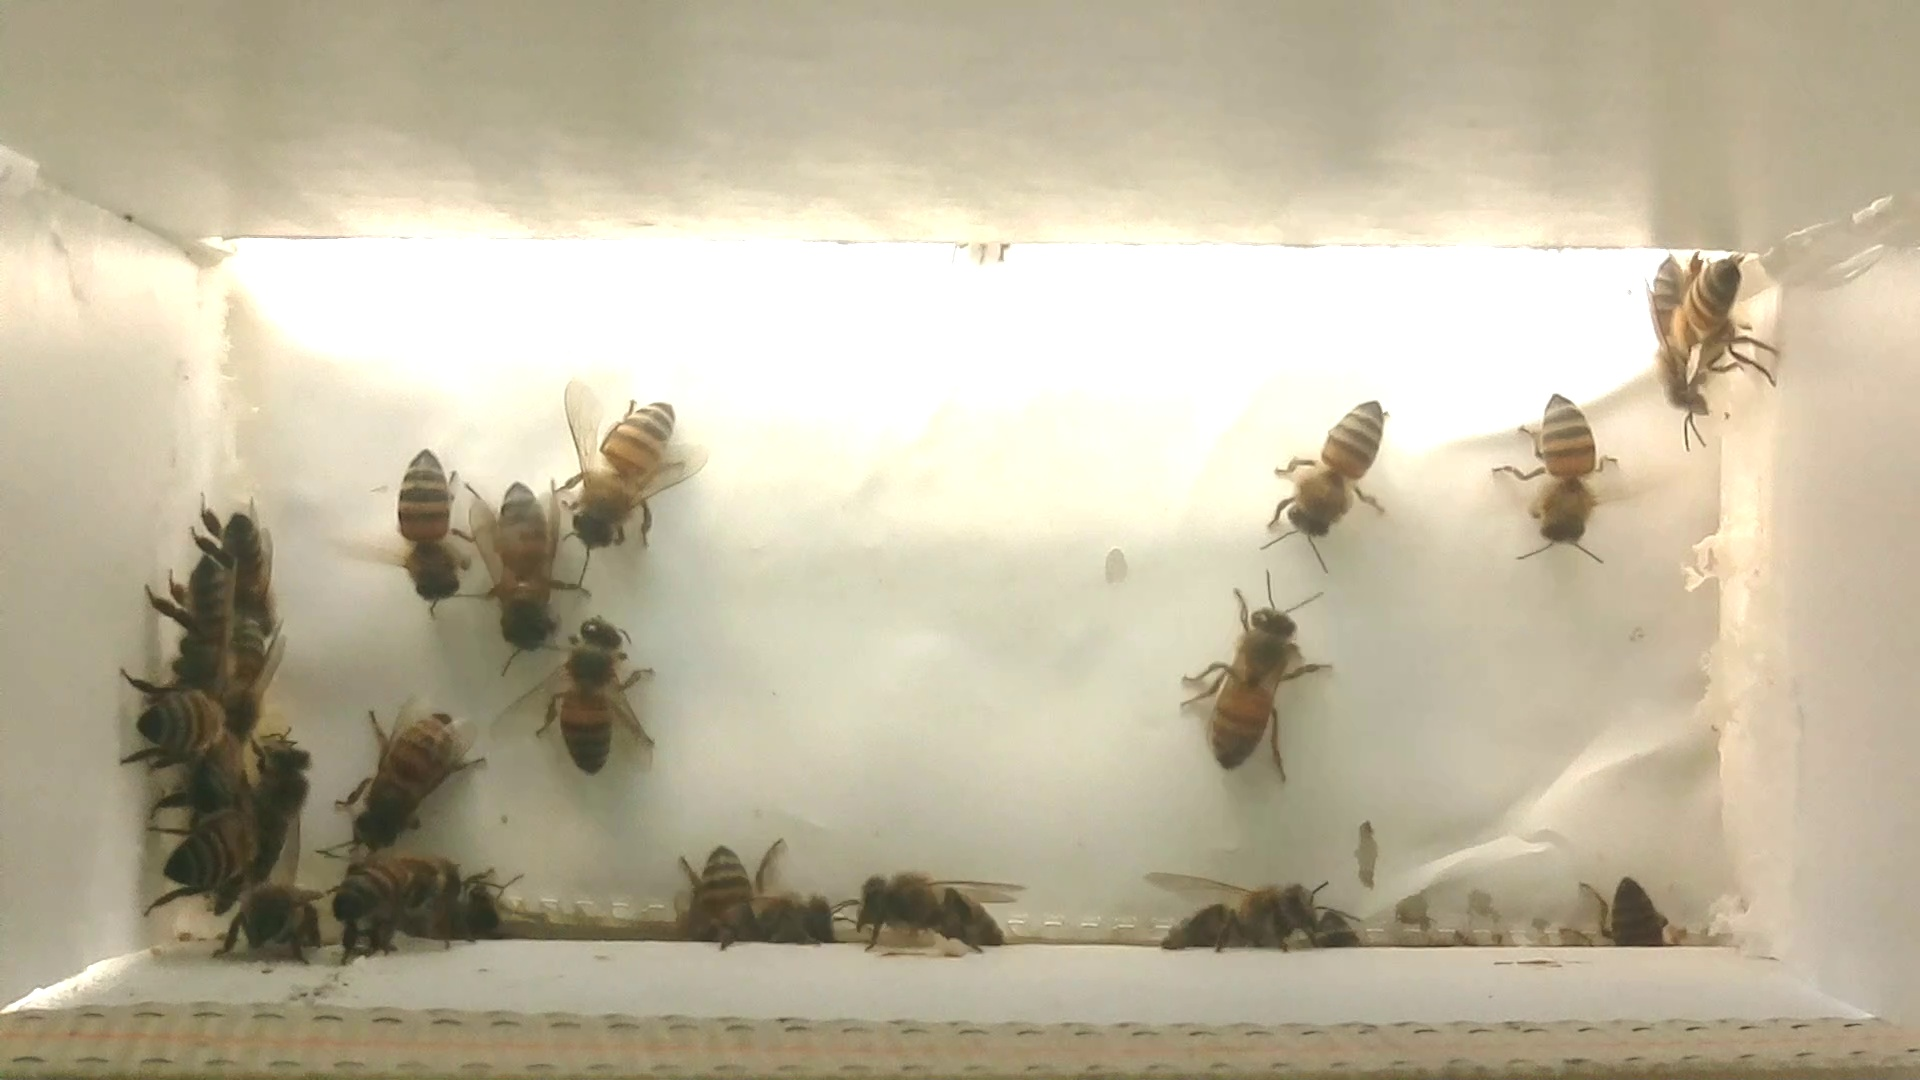bee: (1159, 571, 1349, 794), (1247, 378, 1403, 578), (534, 378, 698, 564), (1484, 384, 1636, 574), (506, 613, 667, 789), (334, 688, 497, 858), (1127, 851, 1338, 969), (836, 855, 1038, 976), (456, 479, 587, 665), (1658, 251, 1792, 413), (313, 843, 498, 959), (361, 443, 479, 618), (208, 705, 316, 891), (659, 823, 786, 960), (181, 483, 291, 628), (96, 659, 239, 771), (1626, 251, 1712, 429), (1569, 866, 1702, 969), (142, 798, 262, 911), (148, 549, 244, 684), (744, 876, 858, 953), (212, 876, 318, 953)
